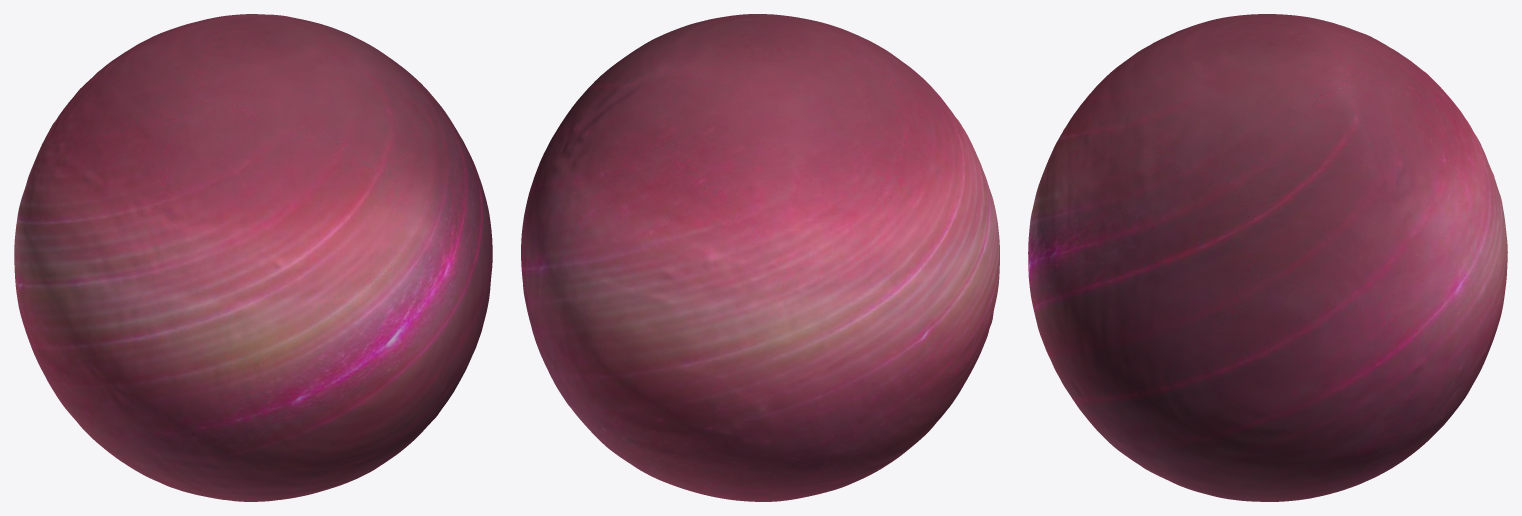
File: love.glb
3 renders of one model, left to right at view 1: azimuth 30°, elevation 25°; view 2: azimuth 150°, elevation 25°; view 3: azimuth 270°, elevation 25°, orthographic.
Parts seen in each view (by area): view 1: geometry_0; view 2: geometry_0; view 3: geometry_0.
Boxes of the visible parts, box(x1,y1,x2,y2) form: geometry_0: box(14, 14, 492, 501); geometry_0: box(521, 14, 999, 501); geometry_0: box(1028, 14, 1507, 501).
Bounding box in the file's own units: 0.5841 × 0.5954 × 0.5838.
1 material, 1 textured.
